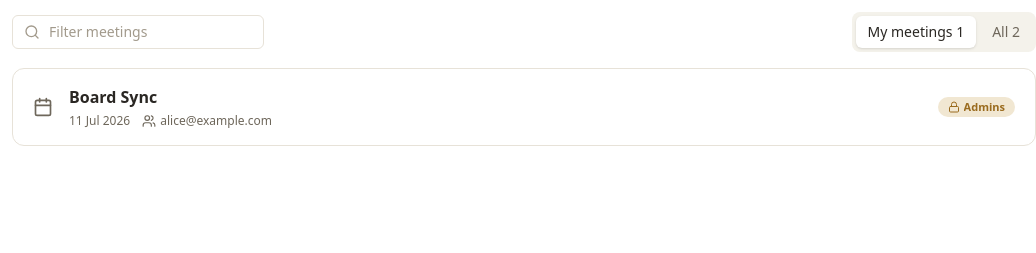
Scenario: MeetingList scope toggle › widens back to every cleared meeting on All
The image size is (1036, 253).
Click the tab "All 2".
click(1006, 32)  # box [980,16,1032,48]
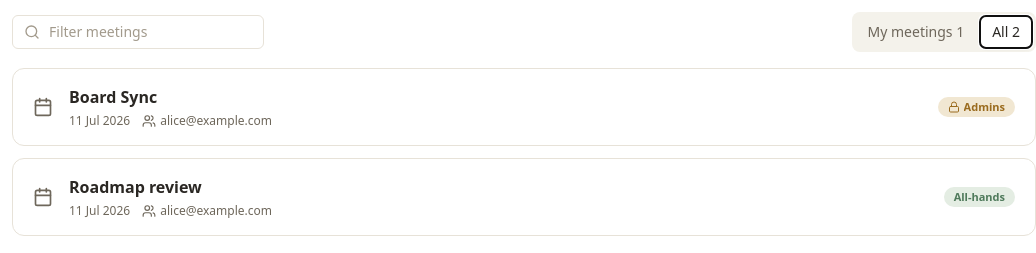
Expected: the link "Board Sync" is shown, [69,86,157,108]
Expected: the link "Roadmap review" is shown, [69,176,202,198]
